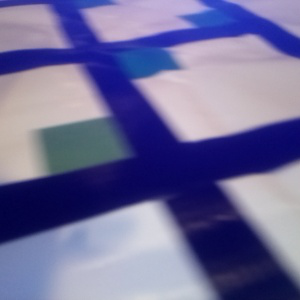bottom_right: (93, 43, 181, 79), (57, 1, 115, 9)
top_left: (40, 117, 161, 198), (179, 10, 247, 34)
